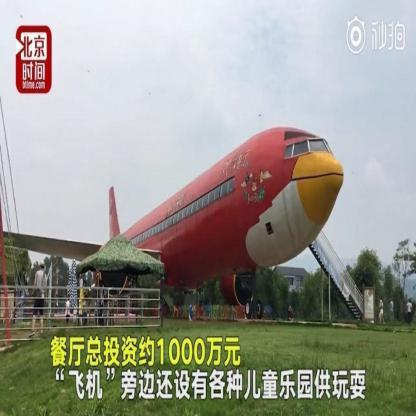CIV_Plane: (3, 114, 350, 338)
